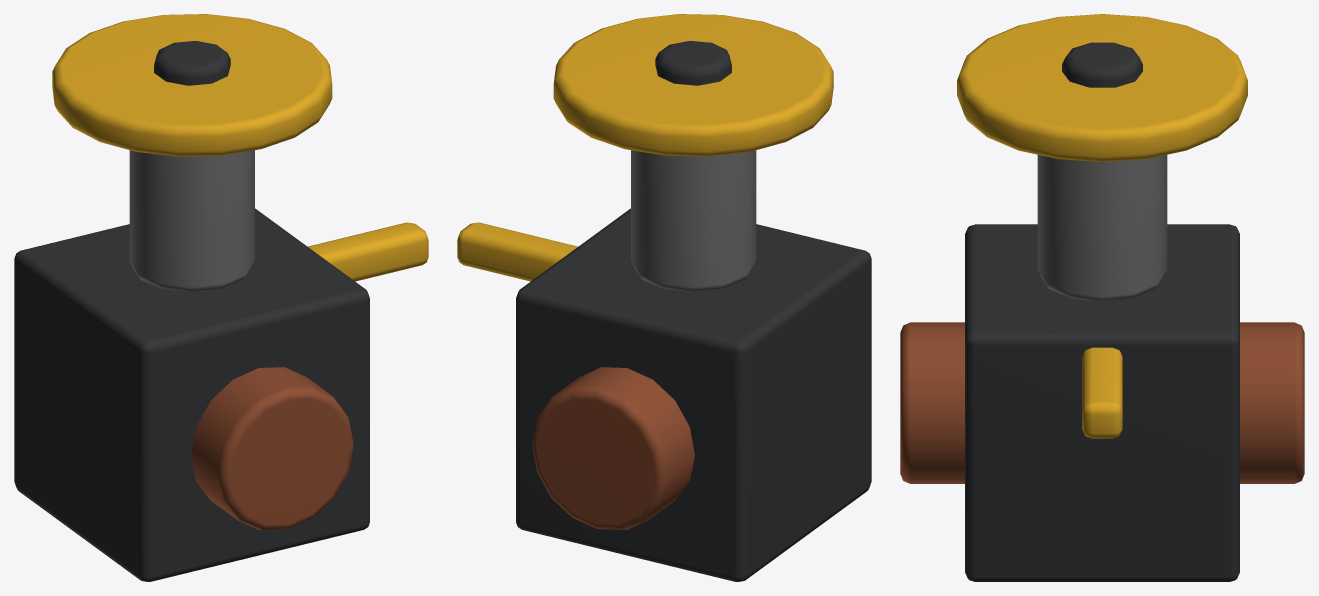
Rendered from s-throttle.glb.
3 renders of one model, left to right at view 1: azimuth 30°, elevation 25°; view 2: azimuth 150°, elevation 25°; view 3: azimuth 270°, elevation 25°, orthographic. The views are drawn at different scales.
Parts seen in each view (by area): view 1: s-throttle; view 2: s-throttle; view 3: s-throttle.
Part boxes in pixels (left/top/right/bottom): s-throttle: left=14, top=14, right=428, bottom=581; s-throttle: left=457, top=14, right=871, bottom=581; s-throttle: left=900, top=14, right=1304, bottom=581.
Size of the model in its own units: 0.52 by 0.645 by 0.5.
